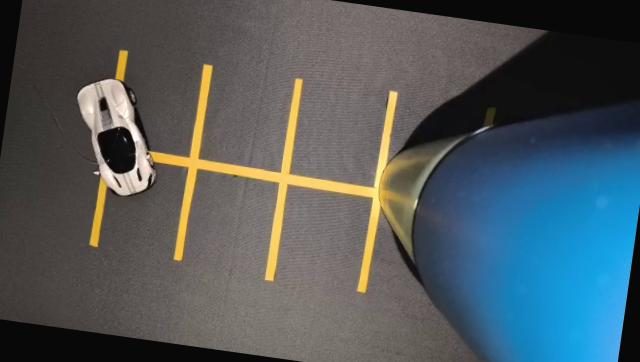toy_car: (36, 40, 195, 207)
